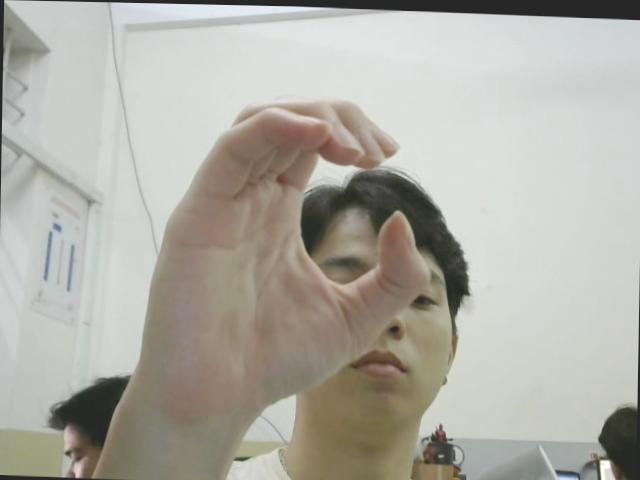C: (139, 84, 434, 420)
